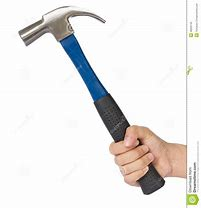hammer: (17, 4, 169, 196)
